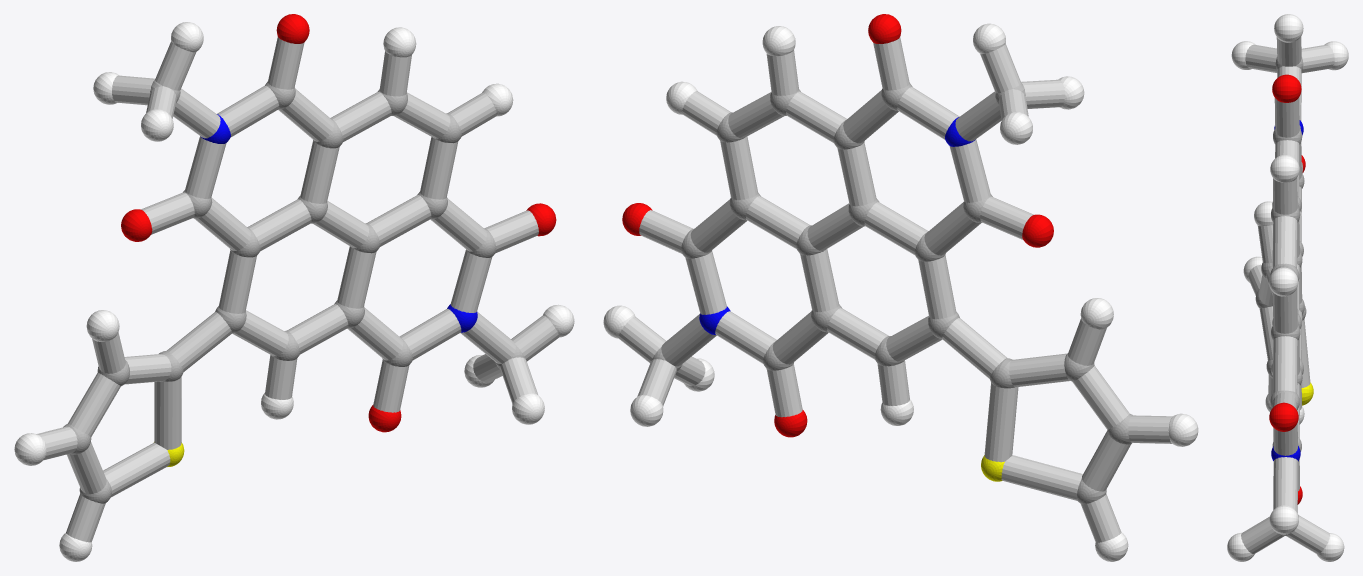
File: Dimethyl_Naphthalene_Dicarboximide_Phi_10_Theta_350_Thiophene.glb
3 renders of one model, left to right at view 1: azimuth 30°, elevation 25°; view 2: azimuth 150°, elevation 25°; view 3: azimuth 270°, elevation 25°, orthographic. The views are drawn at different scales.
Visible parts, largest first — view 1: grp14119, grp7241, grp1, grp12309, grp11585; view 2: grp14119, grp7241, grp1, grp12309, grp11585; view 3: grp14119, grp7241, grp1, grp12309, grp11585, grp13757.
Part boxes in pixels (bbox=[...]): grp14119: bbox=[36, 36, 559, 542]; grp7241: bbox=[14, 22, 574, 561]; grp1: bbox=[63, 80, 524, 503]; grp12309: bbox=[121, 14, 556, 432]; grp11585: bbox=[201, 114, 477, 332]; grp14119: bbox=[618, 37, 1172, 542]; grp7241: bbox=[603, 23, 1198, 561]; grp1: bbox=[651, 83, 1132, 504]; grp12309: bbox=[622, 14, 1053, 437]; grp11585: bbox=[699, 117, 975, 334]; grp14119: bbox=[1241, 36, 1334, 553]; grp7241: bbox=[1227, 14, 1348, 561]; grp1: bbox=[1255, 57, 1306, 535]; grp12309: bbox=[1269, 74, 1305, 504]; grp11585: bbox=[1271, 120, 1303, 461]; grp13757: bbox=[1301, 382, 1313, 405].
Bounding box in the file's own units: 11.98 × 10.14 × 2.48.
